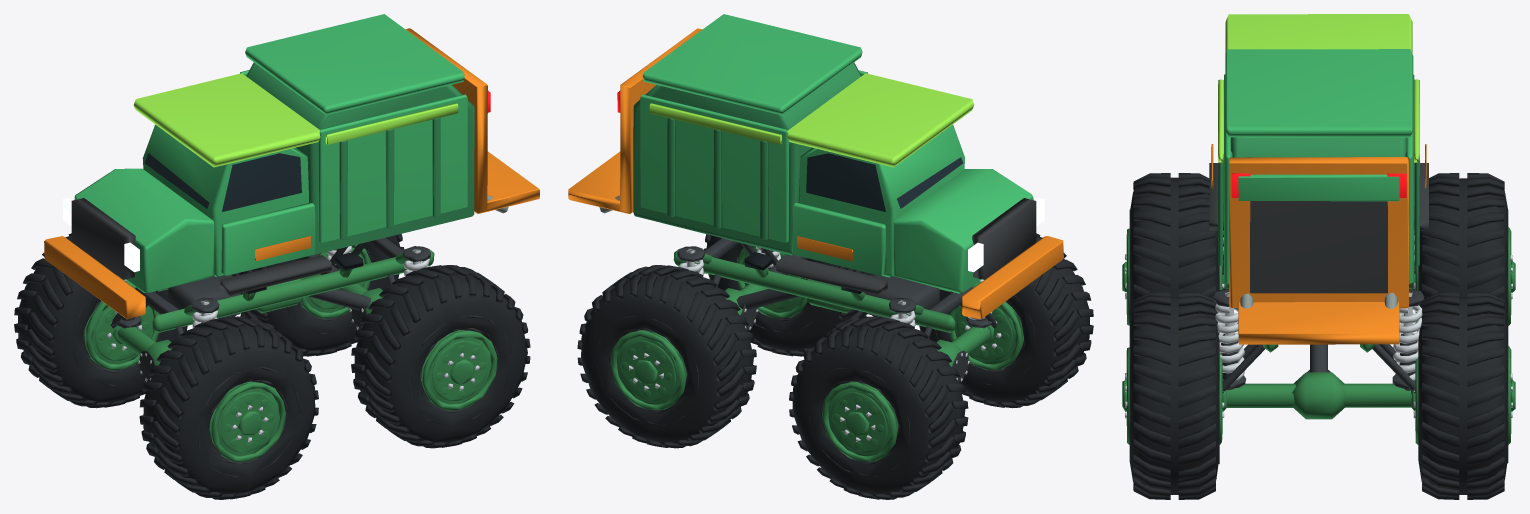
Rendered from TrashTitan_LOD1.fbx.
3 renders of one model, left to right at view 1: azimuth 30°, elevation 25°; view 2: azimuth 150°, elevation 25°; view 3: azimuth 270°, elevation 25°, orthographic. The views are drawn at different scales.
Visible parts, largest first — view 1: TrashTitan_LOD1_sprung_body_Geometry, TrashTitan_LOD1_FL_Spin_Geometry, TrashTitan_LOD1_RL_Spin_Geometry, TrashTitan_LOD1_FR_Spin_Geometry, TrashTitan_LOD1_RR_Spin_Geometry, TrashTitan_LOD1_LoaderTray_Geometry, TrashTitan_LOD1_FRONT_axle_Geometry, TrashTitan_LOD1_Root_Geometry, TrashTitan_LOD1_REAR_axle_Geometry, TrashTitan_LOD1_FRONT_shock_-1_Geometry, TrashTitan_LOD1_REAR_shock_-1_Geometry; view 2: TrashTitan_LOD1_sprung_body_Geometry, TrashTitan_LOD1_FR_Spin_Geometry, TrashTitan_LOD1_RR_Spin_Geometry, TrashTitan_LOD1_FL_Spin_Geometry, TrashTitan_LOD1_RL_Spin_Geometry, TrashTitan_LOD1_LoaderTray_Geometry, TrashTitan_LOD1_FRONT_axle_Geometry, TrashTitan_LOD1_Root_Geometry, TrashTitan_LOD1_REAR_axle_Geometry, TrashTitan_LOD1_REAR_shock_1_Geometry, TrashTitan_LOD1_FRONT_shock_1_Geometry; view 3: TrashTitan_LOD1_sprung_body_Geometry, TrashTitan_LOD1_RL_Spin_Geometry, TrashTitan_LOD1_RR_Spin_Geometry, TrashTitan_LOD1_FL_Spin_Geometry, TrashTitan_LOD1_FR_Spin_Geometry, TrashTitan_LOD1_LoaderTray_Geometry, TrashTitan_LOD1_REAR_axle_Geometry, TrashTitan_LOD1_HopperDoor_Geometry, TrashTitan_LOD1_REAR_shock_-1_Geometry, TrashTitan_LOD1_REAR_shock_1_Geometry, TrashTitan_LOD1_Root_Geometry.
Boxes of the visible parts, bbox=[...] form: TrashTitan_LOD1_sprung_body_Geometry: bbox=[44, 14, 508, 332]; TrashTitan_LOD1_FL_Spin_Geometry: bbox=[139, 316, 318, 499]; TrashTitan_LOD1_RL_Spin_Geometry: bbox=[351, 265, 530, 448]; TrashTitan_LOD1_FR_Spin_Geometry: bbox=[14, 233, 187, 408]; TrashTitan_LOD1_RR_Spin_Geometry: bbox=[231, 234, 404, 356]; TrashTitan_LOD1_LoaderTray_Geometry: bbox=[474, 151, 539, 213]; TrashTitan_LOD1_FRONT_axle_Geometry: bbox=[117, 327, 171, 381]; TrashTitan_LOD1_Root_Geometry: bbox=[111, 242, 396, 338]; TrashTitan_LOD1_REAR_axle_Geometry: bbox=[339, 284, 382, 330]; TrashTitan_LOD1_FRONT_shock_-1_Geometry: bbox=[192, 297, 219, 328]; TrashTitan_LOD1_REAR_shock_-1_Geometry: bbox=[402, 246, 430, 276]; TrashTitan_LOD1_sprung_body_Geometry: bbox=[599, 14, 1063, 332]; TrashTitan_LOD1_FR_Spin_Geometry: bbox=[789, 316, 968, 499]; TrashTitan_LOD1_RR_Spin_Geometry: bbox=[577, 265, 756, 448]; TrashTitan_LOD1_FL_Spin_Geometry: bbox=[917, 233, 1093, 408]; TrashTitan_LOD1_RL_Spin_Geometry: bbox=[703, 234, 875, 356]; TrashTitan_LOD1_LoaderTray_Geometry: bbox=[568, 151, 632, 213]; TrashTitan_LOD1_FRONT_axle_Geometry: bbox=[936, 326, 990, 382]; TrashTitan_LOD1_Root_Geometry: bbox=[697, 243, 996, 338]; TrashTitan_LOD1_REAR_axle_Geometry: bbox=[725, 284, 768, 330]; TrashTitan_LOD1_REAR_shock_1_Geometry: bbox=[677, 246, 704, 274]; TrashTitan_LOD1_FRONT_shock_1_Geometry: bbox=[889, 298, 916, 326]; TrashTitan_LOD1_sprung_body_Geometry: bbox=[1209, 14, 1428, 352]; TrashTitan_LOD1_RL_Spin_Geometry: bbox=[1122, 291, 1226, 499]; TrashTitan_LOD1_RR_Spin_Geometry: bbox=[1411, 291, 1515, 499]; TrashTitan_LOD1_FL_Spin_Geometry: bbox=[1122, 173, 1226, 326]; TrashTitan_LOD1_FR_Spin_Geometry: bbox=[1411, 173, 1515, 327]; TrashTitan_LOD1_LoaderTray_Geometry: bbox=[1238, 302, 1399, 344]; TrashTitan_LOD1_REAR_axle_Geometry: bbox=[1226, 370, 1411, 419]; TrashTitan_LOD1_HopperDoor_Geometry: bbox=[1238, 174, 1399, 201]; TrashTitan_LOD1_REAR_shock_-1_Geometry: bbox=[1214, 288, 1245, 388]; TrashTitan_LOD1_REAR_shock_1_Geometry: bbox=[1392, 289, 1424, 388]; TrashTitan_LOD1_Root_Geometry: bbox=[1222, 262, 1415, 393].
Size of the model in its own units: 588 by 453 by 414.
